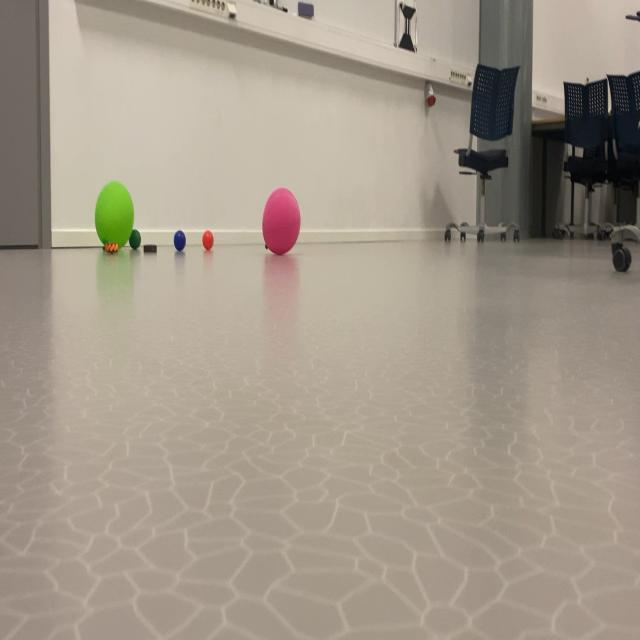7: (198, 217, 220, 275)
green ball: (169, 223, 190, 262)
red ball: (126, 224, 144, 256)
